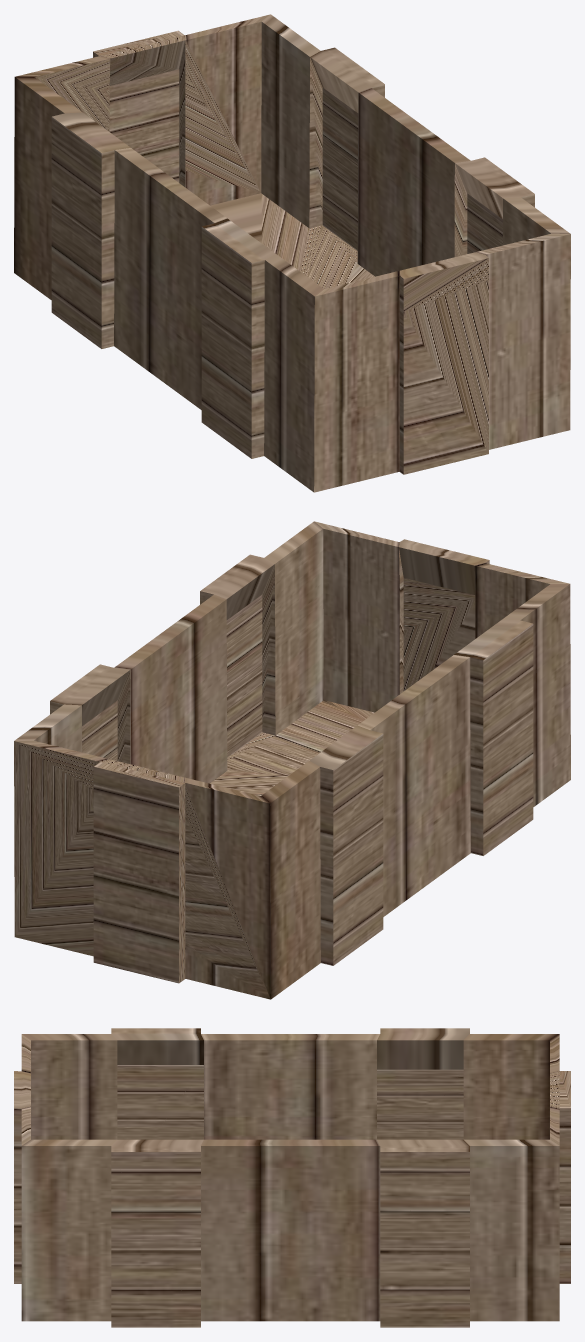
The model's file is caisse_multi_soutenance2.fbx.
3 views of the same model, one above another, from view 1: azimuth 30°, elevation 25°; view 2: azimuth 150°, elevation 25°; view 3: azimuth 270°, elevation 25° (orthographic). The views are drawn at different scales.
Parts seen in each view (by area): view 1: Cube; view 2: Cube; view 3: Cube.
Boxes of the visible parts, x1,y1,x2,y2 form: Cube: [14, 14, 570, 492]; Cube: [14, 521, 570, 999]; Cube: [14, 1028, 570, 1327].
Size of the model in its own units: 46.09 by 30.47 by 87.57.
